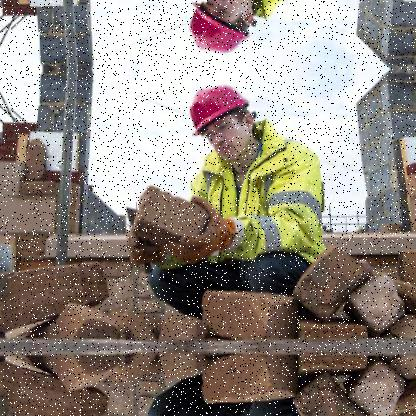Helmet: (192, 81, 262, 170), (183, 0, 274, 58)
